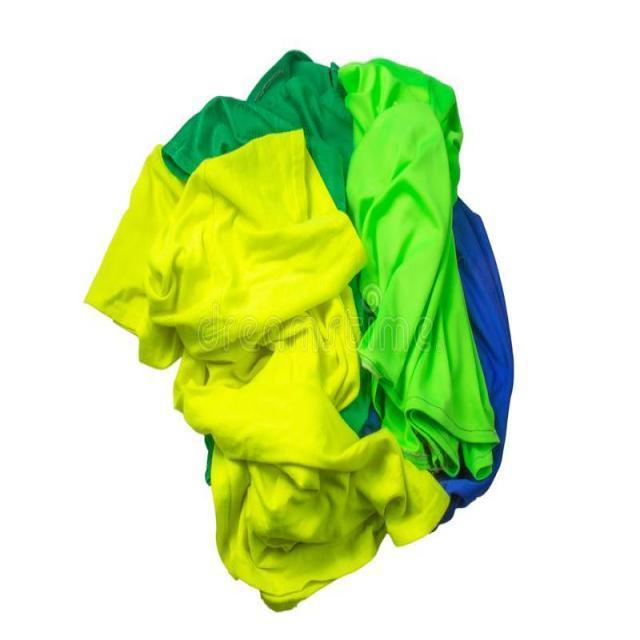clothes: (94, 41, 556, 606)
